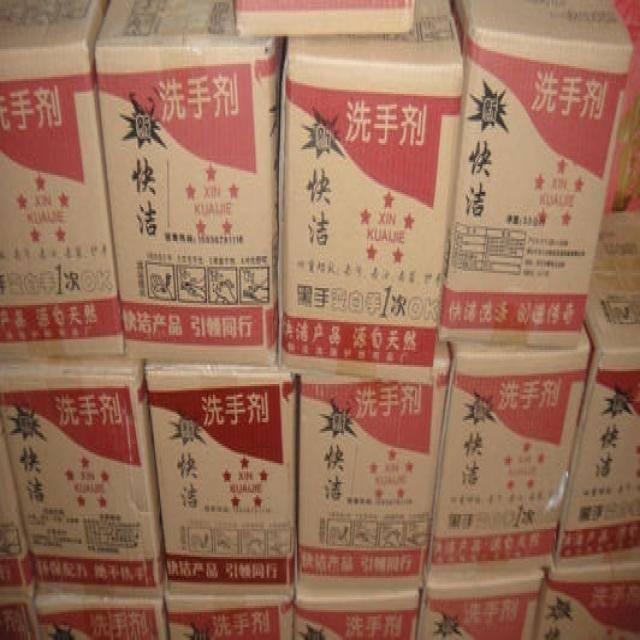box: (277, 2, 464, 382), (435, 0, 634, 352), (94, 0, 283, 365), (0, 0, 125, 358), (425, 324, 591, 585), (296, 343, 451, 602), (0, 358, 166, 597), (144, 358, 298, 599), (550, 211, 640, 570), (532, 557, 640, 640), (416, 570, 544, 640), (0, 416, 38, 602), (294, 585, 422, 640), (233, 0, 416, 36), (34, 593, 170, 640), (164, 593, 294, 640), (0, 595, 41, 640)
